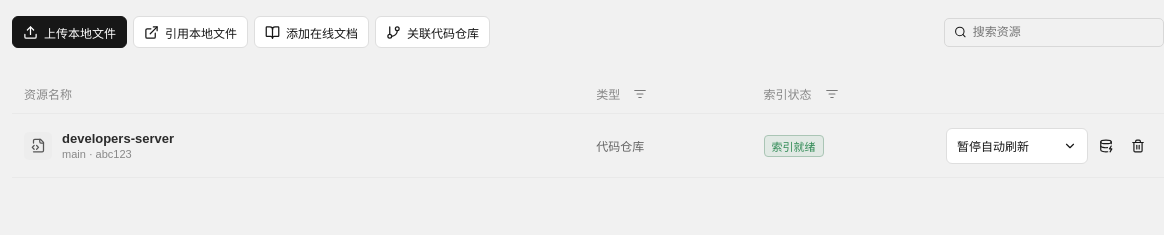
Test: SpaceKnowledgePanel › shows repository file index status counts from the row index status hovercard
Hover over the text "索引就绪" at [794, 146], box [764,134,824,156]
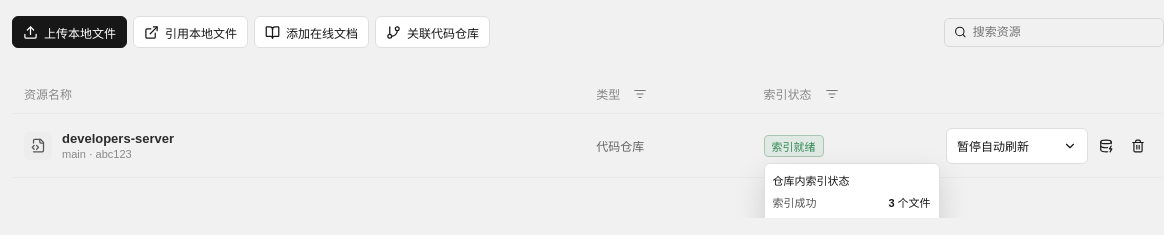
Expected: the element showing "索引成功 3 个文件" is shown, [773,194,931,210]
